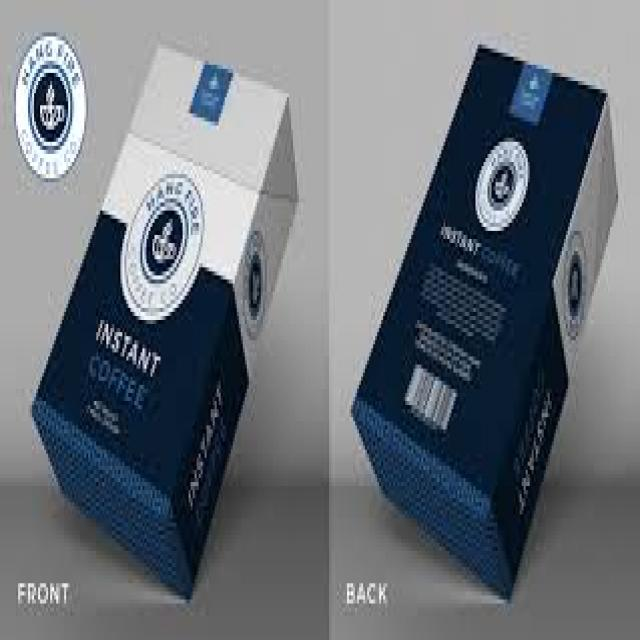Coffee: (349, 45, 618, 604), (30, 45, 301, 599)
